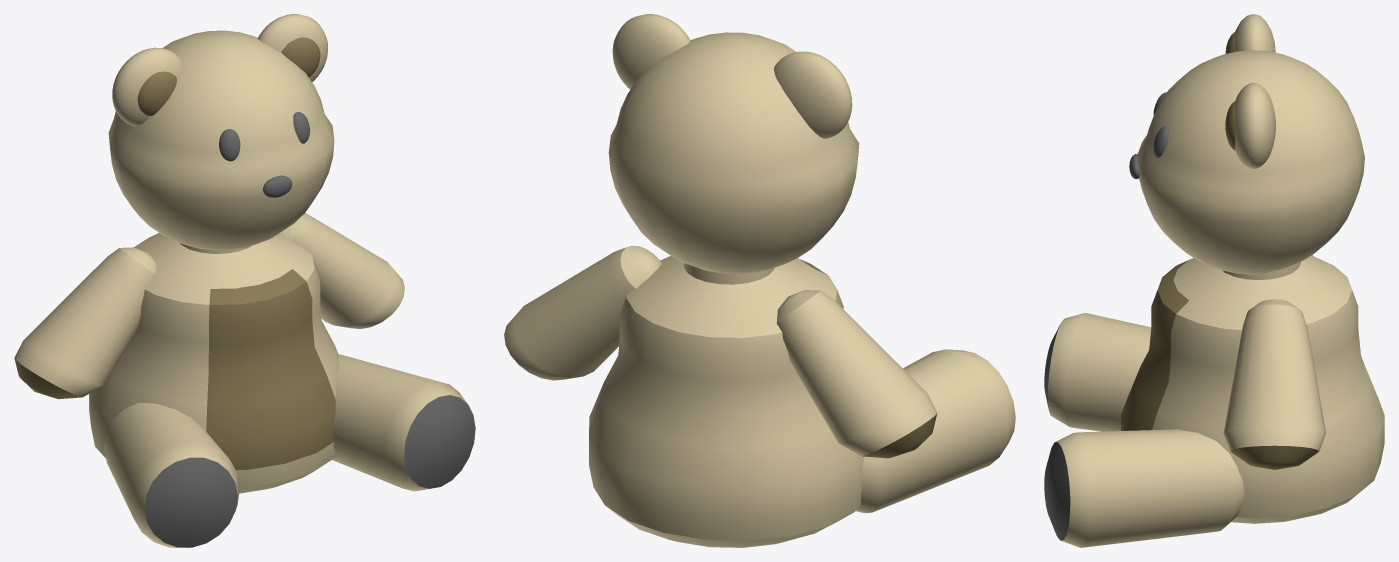
File: fixedBear_Scurry.fbx
3 renders of one model, left to right at view 1: azimuth 30°, elevation 25°; view 2: azimuth 150°, elevation 25°; view 3: azimuth 270°, elevation 25°, orthographic. The views are drawn at different scales.
Visible parts, largest first — view 1: bear; view 2: bear; view 3: bear.
Part boxes in pixels (x1,y1,x2,y2): bear: [14, 14, 475, 547]; bear: [504, 14, 1015, 547]; bear: [1044, 14, 1384, 547].
Size of the model in its own units: 621 by 672 by 478.
